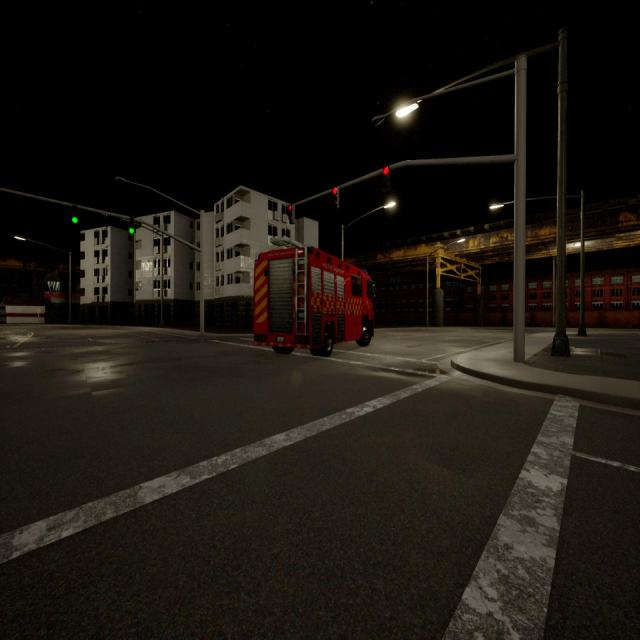Traffic_Signs: (37, 309, 41, 313)
Vehicle: (254, 247, 374, 356)
traffic_light: (333, 187, 339, 208), (289, 205, 295, 224), (72, 205, 78, 222), (384, 167, 389, 182), (130, 218, 134, 234)
